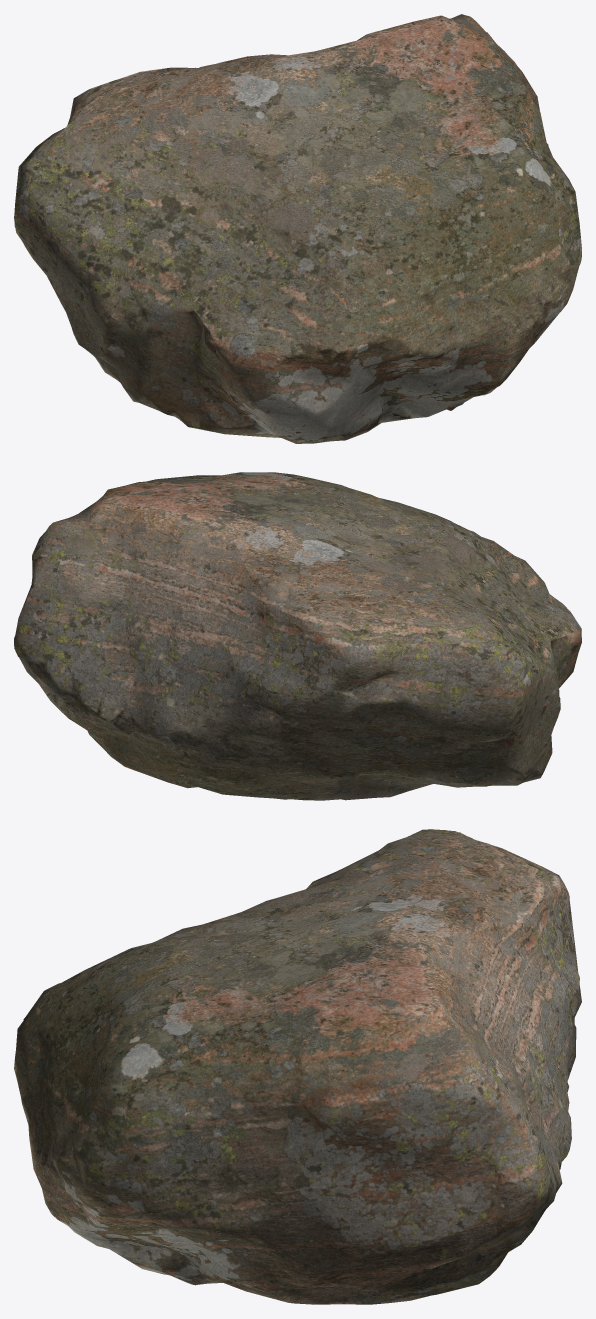
File: SM_zcgjfjp_tier_2.gltf
3 views of the same model, one above another, from view 1: azimuth 30°, elevation 25°; view 2: azimuth 150°, elevation 25°; view 3: azimuth 270°, elevation 25° (orthographic). The views are drawn at different scales.
Visible parts, largest first — view 1: zcgjfjp_LOD2_TIER2_000; view 2: zcgjfjp_LOD2_TIER2_000; view 3: zcgjfjp_LOD2_TIER2_000.
Boxes of the visible parts, x1=… form: zcgjfjp_LOD2_TIER2_000: x1=14, y1=14, x2=581, y2=443; zcgjfjp_LOD2_TIER2_000: x1=14, y1=472, x2=581, y2=800; zcgjfjp_LOD2_TIER2_000: x1=14, y1=829, x2=581, y2=1304.
Bounding box in the file's own units: 1.21 × 0.6667 × 1.03.
Materials: 1 (1 with a texture image).
